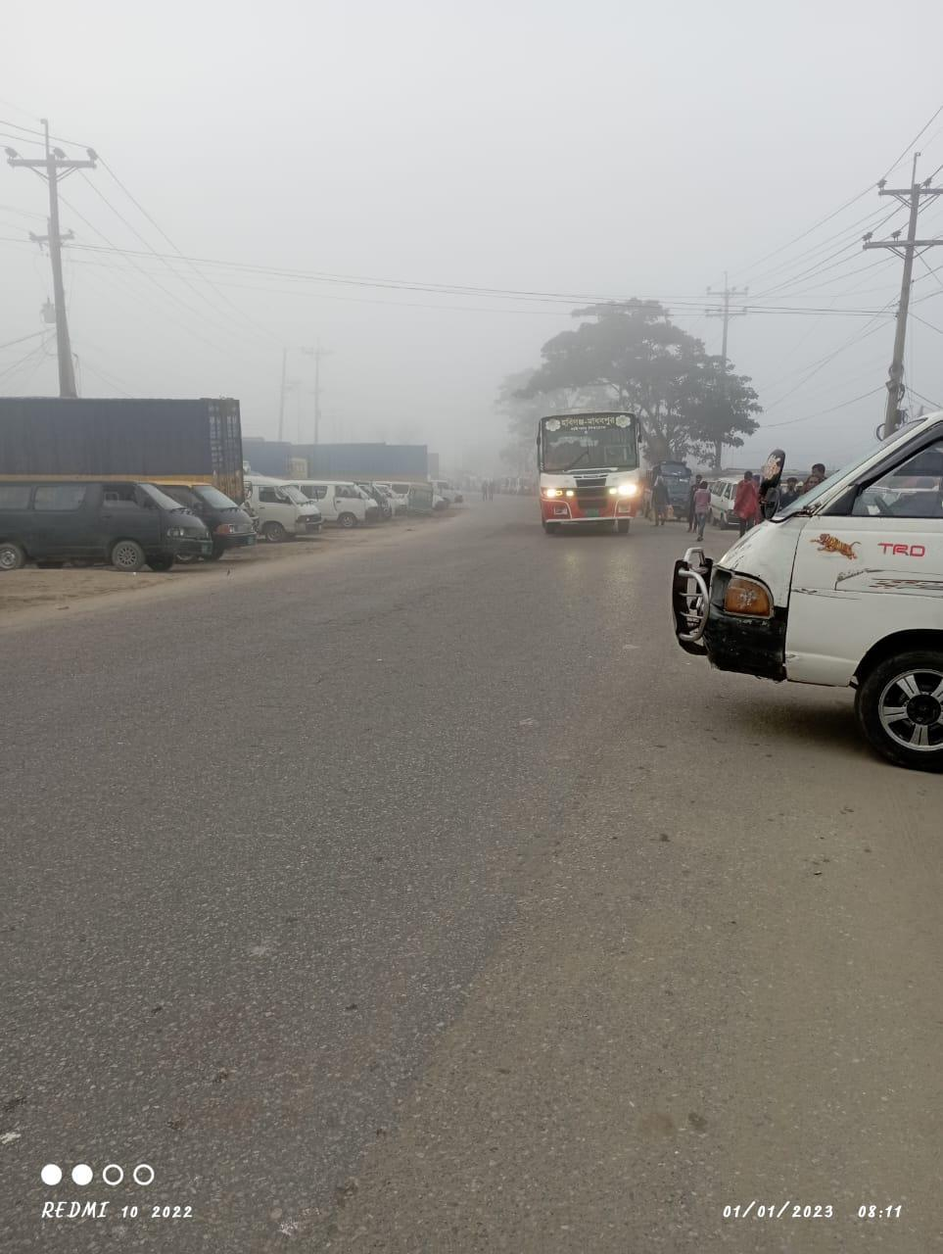Bus: (519, 405, 666, 552)
Car: (671, 393, 943, 776), (4, 469, 219, 596), (248, 466, 318, 546), (298, 470, 392, 528)
Truck: (1, 387, 249, 503)
